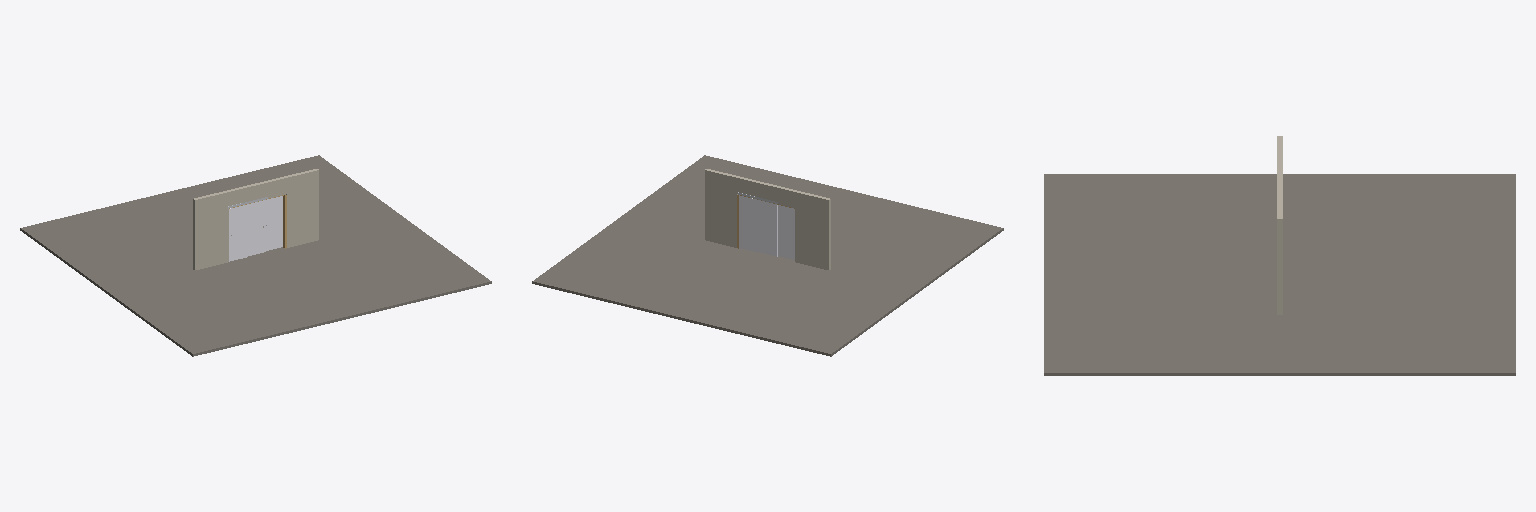
The robot description file, URDF, robot "db0382_sliding_bypass_full":
<?xml version="1.0" ?>
<robot xmlns:doorbench="https://github.com/adamraudonis/DoorBench/schema/urdf-ext" name="db0382_sliding_bypass_full">
  <link name="world_env">
    <visual name="floor_vis">
      <origin xyz="0 0 -0.05" rpy="0 0 0"/>
      <geometry>
        <box size="12 12 0.1"/>
      </geometry>
      <material name="mat_floor"/>
    </visual>
    <collision name="floor_col">
      <origin xyz="0 0 -0.05" rpy="0 0 0"/>
      <geometry>
        <box size="12 12 0.1"/>
      </geometry>
    </collision>
    <visual name="wall_left_vis">
      <origin xyz="-1.8185 0 1.35" rpy="0 0 0"/>
      <geometry>
        <box size="1.363 0.145 2.7"/>
      </geometry>
      <material name="mat_wall"/>
    </visual>
    <collision name="wall_left_col">
      <origin xyz="-1.8185 0 1.35" rpy="0 0 0"/>
      <geometry>
        <box size="1.363 0.145 2.7"/>
      </geometry>
    </collision>
    <visual name="wall_right_vis">
      <origin xyz="1.8485 0 1.35" rpy="0 0 0"/>
      <geometry>
        <box size="1.303 0.145 2.7"/>
      </geometry>
      <material name="mat_wall"/>
    </visual>
    <collision name="wall_right_col">
      <origin xyz="1.8485 0 1.35" rpy="0 0 0"/>
      <geometry>
        <box size="1.303 0.145 2.7"/>
      </geometry>
    </collision>
    <visual name="wall_header_vis">
      <origin xyz="0.03 0 2.3855" rpy="0 0 0"/>
      <geometry>
        <box size="2.334 0.145 0.629"/>
      </geometry>
      <material name="mat_wall"/>
    </visual>
    <collision name="wall_header_col">
      <origin xyz="0.03 0 2.3855" rpy="0 0 0"/>
      <geometry>
        <box size="2.334 0.145 0.629"/>
      </geometry>
    </collision>
    <visual name="jamb_l_vis">
      <origin xyz="-1.1275 0 1.026" rpy="0 0 0"/>
      <geometry>
        <box size="0.019 0.145 2.052"/>
      </geometry>
      <material name="mat_frame"/>
    </visual>
    <collision name="jamb_l_col">
      <origin xyz="-1.1275 0 1.026" rpy="0 0 0"/>
      <geometry>
        <box size="0.019 0.145 2.052"/>
      </geometry>
    </collision>
    <visual name="jamb_head_vis">
      <origin xyz="0 0 2.0615" rpy="0 0 0"/>
      <geometry>
        <box size="2.274 0.145 0.019"/>
      </geometry>
      <material name="mat_frame"/>
    </visual>
    <collision name="jamb_head_col">
      <origin xyz="0 0 2.0615" rpy="0 0 0"/>
      <geometry>
        <box size="2.274 0.145 0.019"/>
      </geometry>
    </collision>
    <visual name="leaf_0_track_header_vis">
      <origin xyz="-0.368 -0.056 2.111" rpy="0 0 0"/>
      <geometry>
        <box size="1.594 0.05 0.08"/>
      </geometry>
      <material name="mat_track"/>
    </visual>
    <collision name="leaf_0_track_header_col">
      <origin xyz="-0.368 -0.056 2.111" rpy="0 0 0"/>
      <geometry>
        <box size="1.594 0.05 0.08"/>
      </geometry>
    </collision>
    <visual name="leaf_1_track_header_vis">
      <origin xyz="0 0 2.111" rpy="0 0 0"/>
      <geometry>
        <box size="2.326 0.05 0.08"/>
      </geometry>
      <material name="mat_track"/>
    </visual>
    <collision name="leaf_1_track_header_col">
      <origin xyz="0 0 2.111" rpy="0 0 0"/>
      <geometry>
        <box size="2.326 0.05 0.08"/>
      </geometry>
    </collision>
    <visual name="leaf_2_track_header_vis">
      <origin xyz="0.368 0.056 2.111" rpy="0 0 0"/>
      <geometry>
        <box size="1.594 0.05 0.08"/>
      </geometry>
      <material name="mat_track"/>
    </visual>
    <collision name="leaf_2_track_header_col">
      <origin xyz="0.368 0.056 2.111" rpy="0 0 0"/>
      <geometry>
        <box size="1.594 0.05 0.08"/>
      </geometry>
    </collision>
    <visual name="jamb_latch_0_vis">
      <origin xyz="1.1575 0 1.026" rpy="0 0 0"/>
      <geometry>
        <box size="0.079 0.145 2.052"/>
      </geometry>
      <material name="mat_frame"/>
    </visual>
    <collision name="jamb_latch_0_col">
      <origin xyz="1.1575 0 1.026" rpy="0 0 0"/>
      <geometry>
        <box size="0.079 0.145 2.052"/>
      </geometry>
    </collision>
  </link>
  <link name="leaf_0">
    <inertial>
      <origin xyz="-0.000038 0 1.027996" rpy="0 0 0"/>
      <mass value="23.242427"/>
      <inertia ixx="7.996409549" ixy="-0.000003082" ixz="-0.000024659" iyy="9.121081676" iyz="-0.000000297" izz="1.124811638"/>
    </inertial>
    <visual name="leaf_0_glass_vis">
      <origin xyz="0 0 1.028" rpy="0 0 0"/>
      <geometry>
        <box size="0.762 0.006 2.032"/>
      </geometry>
      <material name="mat_glass_leaf"/>
    </visual>
    <collision name="leaf_0_glass_col">
      <origin xyz="0 0 1.028" rpy="0 0 0"/>
      <geometry>
        <box size="0.762 0.006 2.032"/>
      </geometry>
    </collision>
    <visual name="leaf_0_pull_n_vis">
      <origin xyz="-0.291 -0.0035 1" rpy="0 0 0"/>
      <geometry>
        <box size="0.055 0.001 0.055"/>
      </geometry>
      <material name="mat_op_nickel_satin"/>
    </visual>
  </link>
  <link name="leaf_1">
    <inertial>
      <origin xyz="0.000038 0 1.027996" rpy="0 0 0"/>
      <mass value="23.242427"/>
      <inertia ixx="7.996409549" ixy="0.000003082" ixz="0.000024659" iyy="9.121081676" iyz="-0.000000297" izz="1.124811638"/>
    </inertial>
    <visual name="leaf_1_glass_vis">
      <origin xyz="0 0 1.028" rpy="0 0 0"/>
      <geometry>
        <box size="0.762 0.006 2.032"/>
      </geometry>
      <material name="mat_glass_leaf"/>
    </visual>
    <collision name="leaf_1_glass_col">
      <origin xyz="0 0 1.028" rpy="0 0 0"/>
      <geometry>
        <box size="0.762 0.006 2.032"/>
      </geometry>
    </collision>
    <visual name="leaf_1_pull_n_vis">
      <origin xyz="0.291 -0.0035 1" rpy="0 0 0"/>
      <geometry>
        <box size="0.055 0.001 0.055"/>
      </geometry>
      <material name="mat_op_nickel_satin"/>
    </visual>
  </link>
  <link name="leaf_2">
    <inertial>
      <origin xyz="-0.000038 0 1.027996" rpy="0 0 0"/>
      <mass value="23.242427"/>
      <inertia ixx="7.996409549" ixy="-0.000003082" ixz="-0.000024659" iyy="9.121081676" iyz="-0.000000297" izz="1.124811638"/>
    </inertial>
    <visual name="leaf_2_glass_vis">
      <origin xyz="0 0 1.028" rpy="0 0 0"/>
      <geometry>
        <box size="0.762 0.006 2.032"/>
      </geometry>
      <material name="mat_glass_leaf"/>
    </visual>
    <collision name="leaf_2_glass_col">
      <origin xyz="0 0 1.028" rpy="0 0 0"/>
      <geometry>
        <box size="0.762 0.006 2.032"/>
      </geometry>
    </collision>
    <visual name="leaf_2_pull_n_vis">
      <origin xyz="-0.291 -0.0035 1" rpy="0 0 0"/>
      <geometry>
        <box size="0.055 0.001 0.055"/>
      </geometry>
      <material name="mat_op_nickel_satin"/>
    </visual>
  </link>
  <joint name="leaf_0_slide" type="prismatic">
    <origin xyz="-0.734 -0.056 0" rpy="0 0 0"/>
    <parent link="world_env"/>
    <child link="leaf_0"/>
    <axis xyz="1 0 0"/>
    <limit lower="0" upper="1.448" effort="5000" velocity="10"/>
    <dynamics damping="3.163788" friction="5.478174"/>
  </joint>
  <joint name="leaf_1_slide" type="prismatic">
    <origin xyz="0 0 0" rpy="0 0 0"/>
    <parent link="world_env"/>
    <child link="leaf_1"/>
    <axis xyz="-1 0 0"/>
    <limit lower="0" upper="0.714" effort="5000" velocity="10"/>
    <dynamics damping="3.163788" friction="5.478174"/>
  </joint>
  <joint name="leaf_2_slide" type="prismatic">
    <origin xyz="0.734 0.056 0" rpy="0 0 0"/>
    <parent link="world_env"/>
    <child link="leaf_2"/>
    <axis xyz="-1 0 0"/>
    <limit lower="0" upper="1.448" effort="5000" velocity="10"/>
    <dynamics damping="3.163788" friction="5.478174"/>
  </joint>
  <material name="mat_floor">
    <color rgba="0.55 0.53 0.5 1"/>
  </material>
  <material name="mat_frame">
    <color rgba="0.82 0.7 0.5 1"/>
  </material>
  <material name="mat_glass_leaf">
    <color rgba="0.95 0.95 0.97 1"/>
  </material>
  <material name="mat_op_nickel_satin">
    <color rgba="0.72 0.7 0.66 1"/>
  </material>
  <material name="mat_track">
    <color rgba="0.8 0.81 0.83 1"/>
  </material>
  <material name="mat_wall">
    <color rgba="0.78 0.76 0.7 1"/>
  </material>
</robot>

--- Render facts (derived) ---
3 views of the same robot in one strip: view 1: azimuth 30°, elevation 25°; view 2: azimuth 150°, elevation 25°; view 3: azimuth 270°, elevation 25° (orthographic).
Model db0382_sliding_bypass_full with 4 links and 3 joints (3 prismatic), rooted at world_env, posed every joint at zero.
Visible links, largest first — view 1: world_env, leaf_0, leaf_1, leaf_2; view 2: world_env, leaf_1, leaf_2, leaf_0; view 3: world_env.
Link boxes in pixels (<box>): world_env: <box>20,155,491,356</box>; leaf_0: <box>229,204,247,261</box>; leaf_1: <box>248,200,265,255</box>; leaf_2: <box>266,196,282,250</box>; world_env: <box>532,155,1003,356</box>; leaf_1: <box>758,200,777,256</box>; leaf_2: <box>739,195,757,252</box>; leaf_0: <box>778,205,794,259</box>; world_env: <box>1044,136,1515,375</box>.
Bounding box of the posed robot: 12 × 12 × 2.8 m (x, y, z).
Geometry: primitives only (box / cylinder / sphere), no mesh files.
